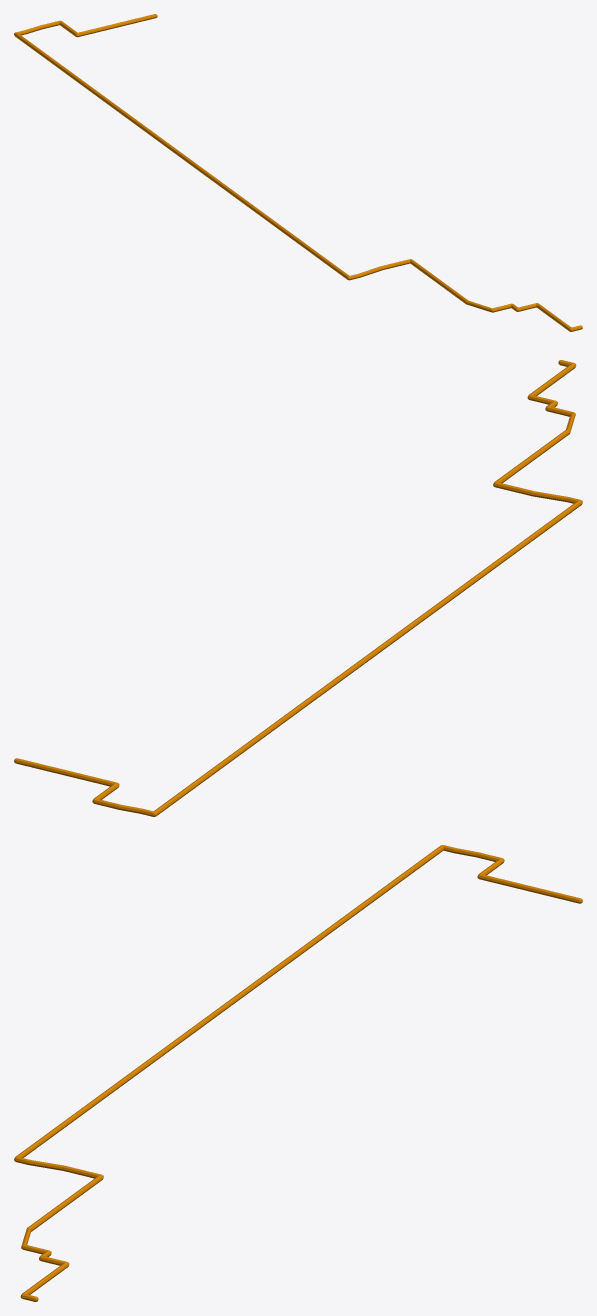
3 views of the same model, one above another, from view 1: azimuth 30°, elevation 25°; view 2: azimuth 150°, elevation 25°; view 3: azimuth 330°, elevation 25° (orthographic). The views are drawn at different scales.
Bounding box in the file's own units: 651 × 20 × 3939.
